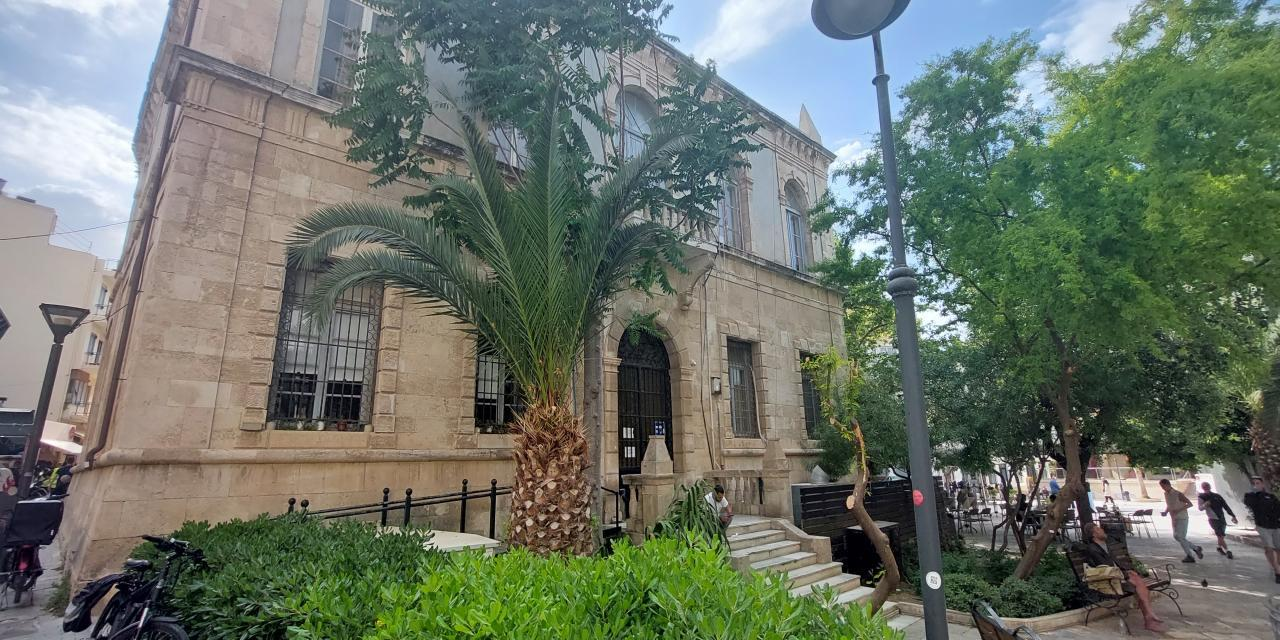Agios Titos: (59, 5, 882, 578)
